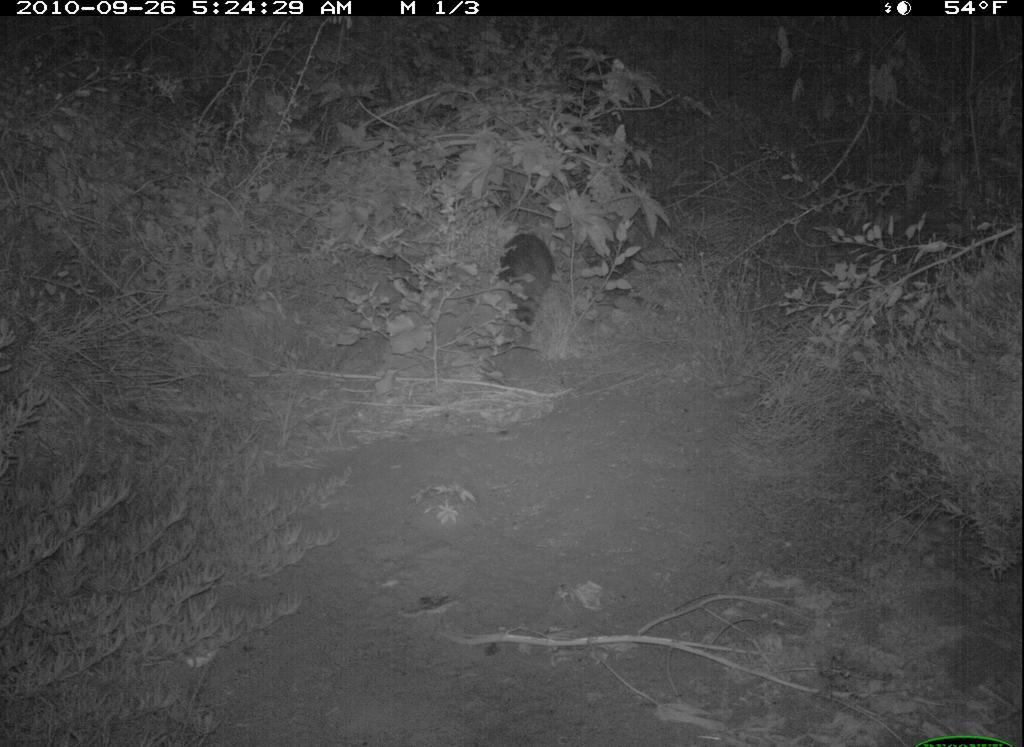raccoon: (488, 225, 565, 354)
